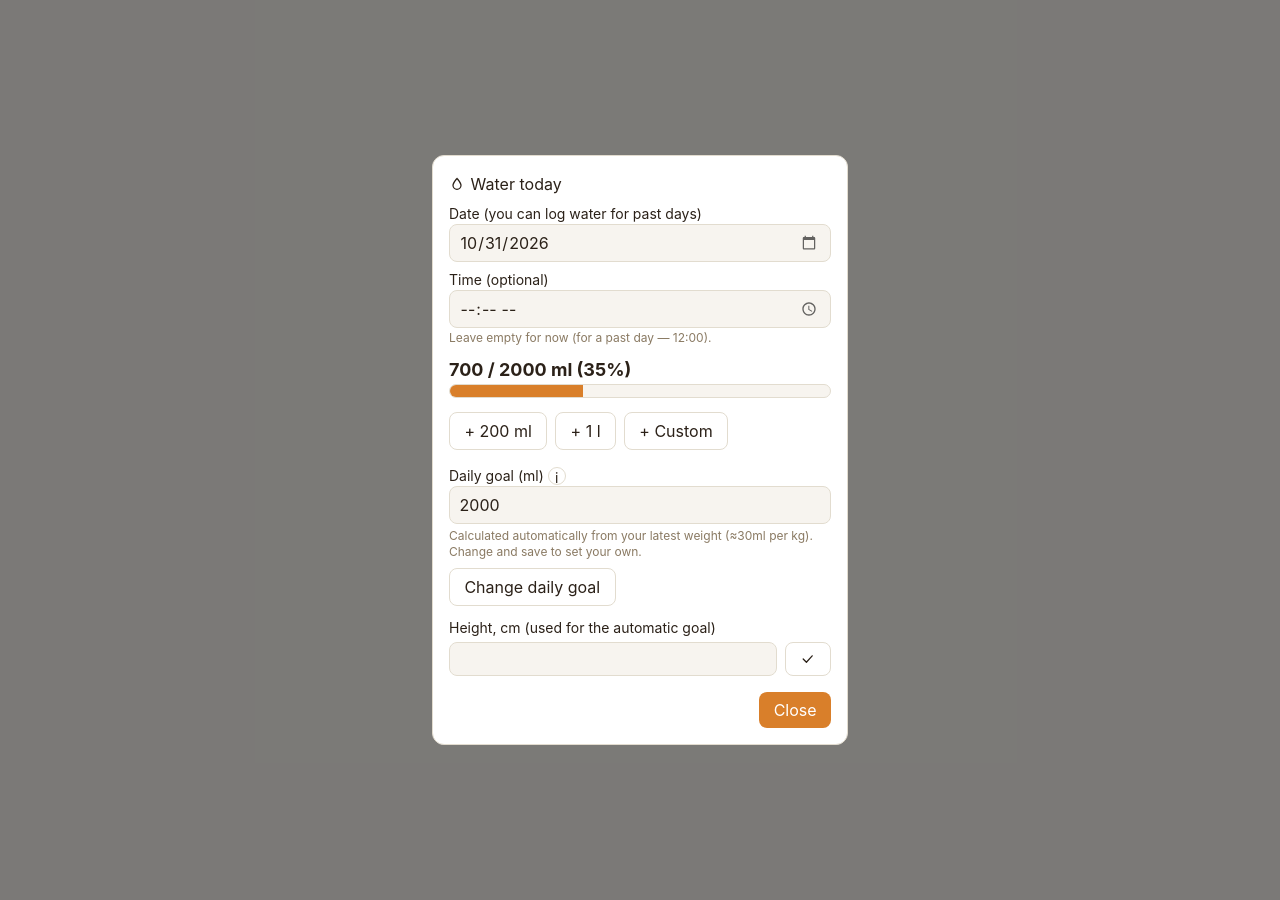
Test: WaterModal: своё количество воды › английский интерфейс: подписи и подсказка об ошибке
Click the button with test id "add-custom": (676, 431) [624,412,728,450]
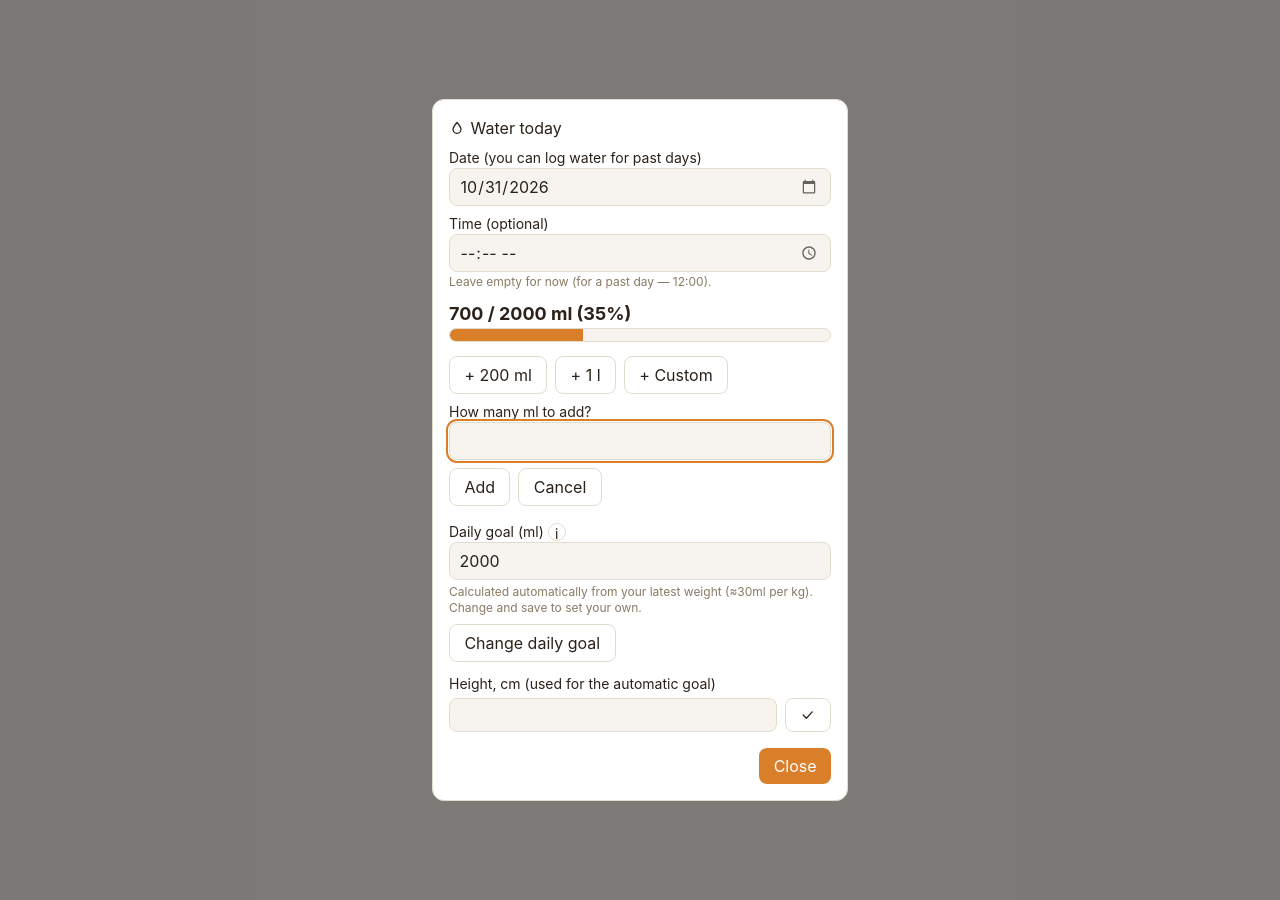
Result: the text "How many ml to add?" is shown at [449,403,592,420]
Result: the button with test id "custom-add" reads "Add"
Click the button with test id "custom-add": (480, 487) [449,468,510,506]
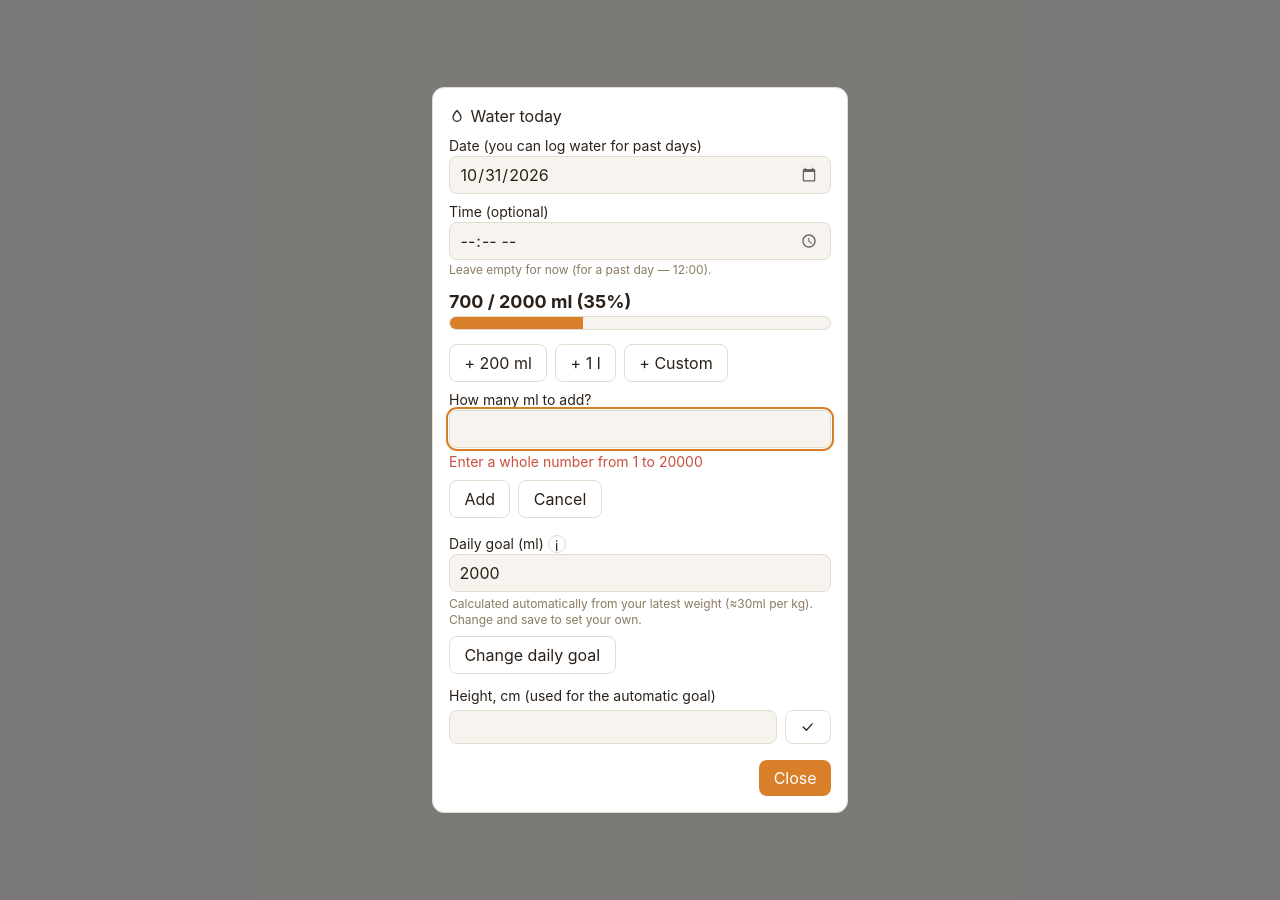
Result: the text with test id "custom-invalid" shows "from 1 to 20000" at [449,453,703,470]
